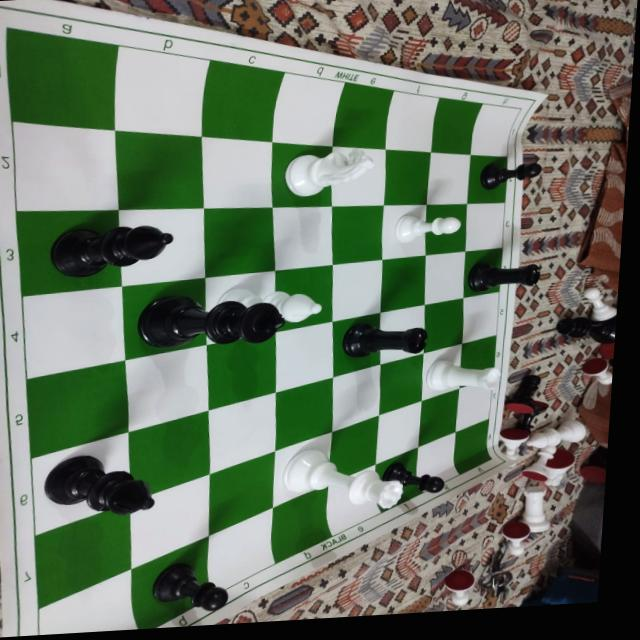board: (0, 6, 544, 636)
square: (8, 26, 119, 129), (35, 501, 131, 609), (31, 432, 131, 534), (27, 359, 129, 458), (12, 120, 119, 210), (22, 286, 125, 378), (16, 209, 122, 295), (115, 44, 210, 136), (129, 473, 210, 569), (132, 535, 213, 629), (128, 409, 210, 500), (126, 344, 208, 431), (122, 277, 207, 360), (115, 130, 204, 209), (201, 59, 285, 140), (119, 207, 205, 286), (39, 568, 140, 635), (209, 506, 276, 595), (209, 450, 275, 535), (206, 331, 276, 410), (209, 392, 276, 473), (272, 71, 345, 145), (205, 270, 275, 344), (204, 206, 275, 277), (202, 135, 272, 207), (273, 483, 332, 562), (273, 431, 332, 507), (275, 376, 333, 450), (333, 81, 395, 148), (275, 321, 333, 391), (272, 142, 333, 206), (273, 205, 333, 270), (276, 264, 333, 331), (329, 463, 381, 536), (328, 414, 379, 483), (385, 90, 440, 152), (332, 145, 386, 206), (332, 364, 381, 431), (332, 312, 381, 377), (332, 259, 383, 321), (332, 205, 384, 264), (376, 446, 422, 512), (431, 96, 483, 154), (376, 400, 421, 464), (380, 352, 424, 415), (471, 102, 522, 156), (381, 304, 425, 364), (384, 149, 431, 204), (418, 431, 460, 492), (381, 255, 425, 312), (418, 387, 460, 446), (383, 204, 426, 259), (427, 151, 471, 204), (422, 343, 462, 400), (425, 250, 465, 304), (424, 297, 463, 352), (426, 203, 467, 254), (456, 418, 492, 474), (465, 201, 505, 251), (456, 377, 493, 431), (467, 154, 507, 203), (460, 334, 496, 387), (464, 247, 502, 297), (463, 291, 499, 343)
